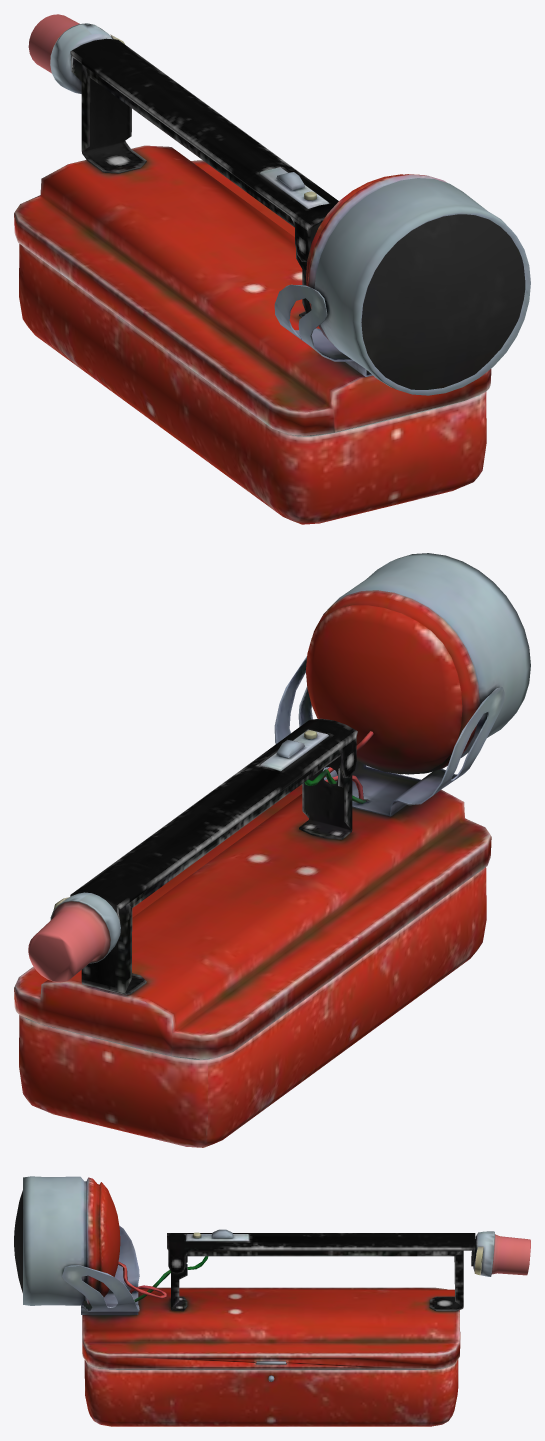
Rendered from torch.glb.
The picture shows the model from 3 angles, top to bottom: view 1: azimuth 30°, elevation 25°; view 2: azimuth 150°, elevation 25°; view 3: azimuth 270°, elevation 25°; orthographic projection. The views are drawn at different scales.
Parts seen in each view (by area): view 1: vintage_flashlight; view 2: vintage_flashlight; view 3: vintage_flashlight.
Boxes of the visible parts, x1,y1,x2,y2 form: vintage_flashlight: (14,14,530,524); vintage_flashlight: (14,553,530,1147); vintage_flashlight: (14,1176,530,1426).
Bounding box in the file's own units: 0.0956 × 0.1443 × 0.3054.
Materials: 2 (2 with a texture image).
